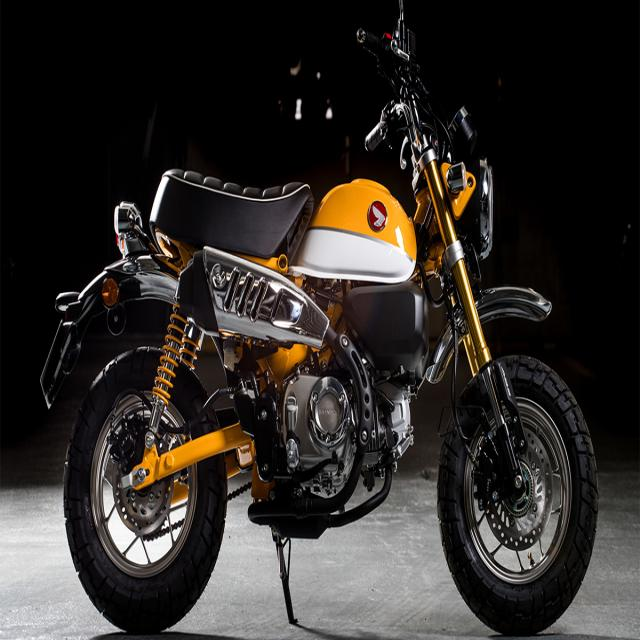Bike: (39, 0, 599, 639)
